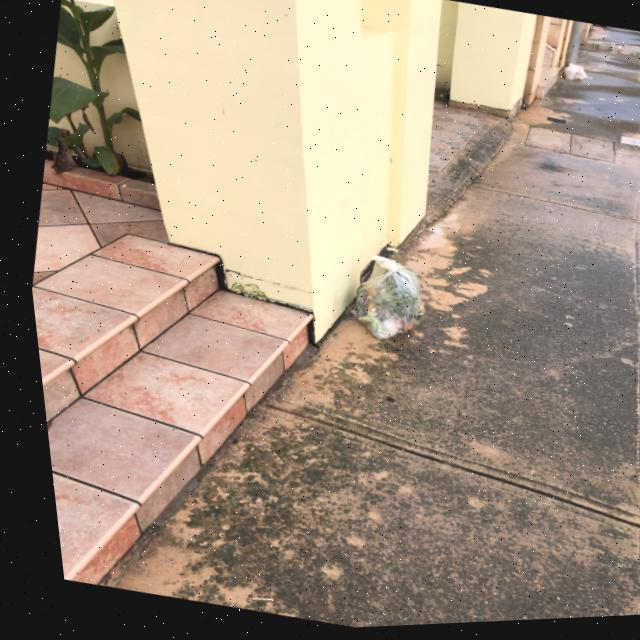Organic Waste -White Bag-: (337, 248, 437, 360), (550, 60, 596, 98)
